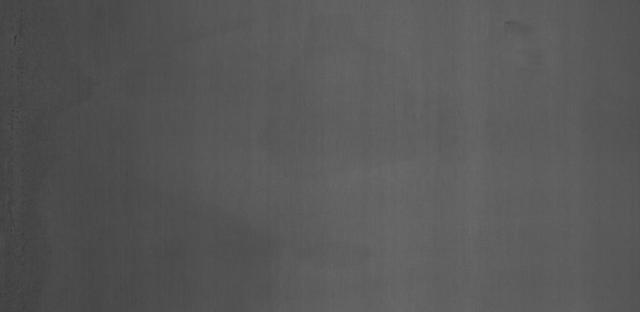oil_spot: (241, 20, 434, 198)
